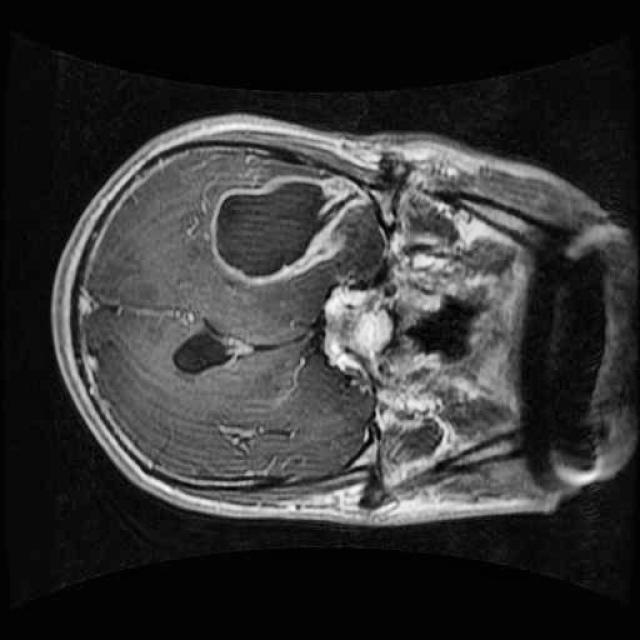Non-Tumor: (199, 165, 370, 299)
